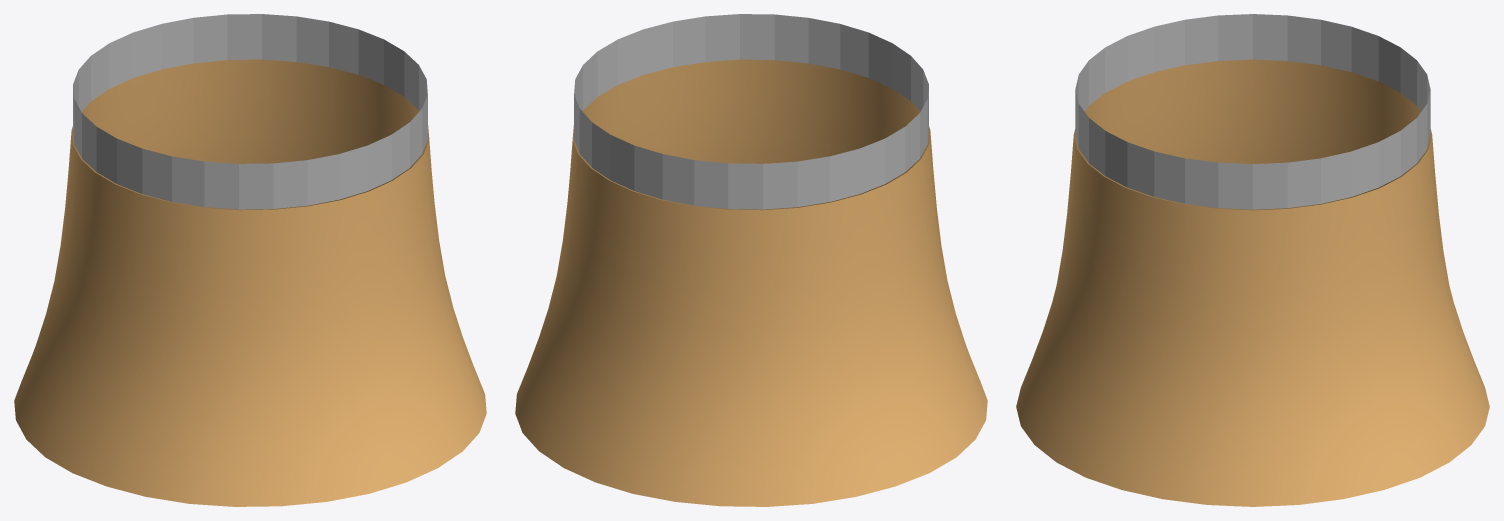
File: arm_base.dae
3 views of the same model, side by side, from view 1: azimuth 30°, elevation 25°; view 2: azimuth 150°, elevation 25°; view 3: azimuth 270°, elevation 25° (orthographic).
Parts seen in each view (by area): view 1: base; view 2: base; view 3: base.
Part boxes in pixels (x1,y1,x2,y2): base: [14, 14, 486, 506]; base: [515, 14, 987, 506]; base: [1016, 14, 1489, 506].
Bounding box in the file's own units: 0.1601 × 0.1601 × 0.1185.
